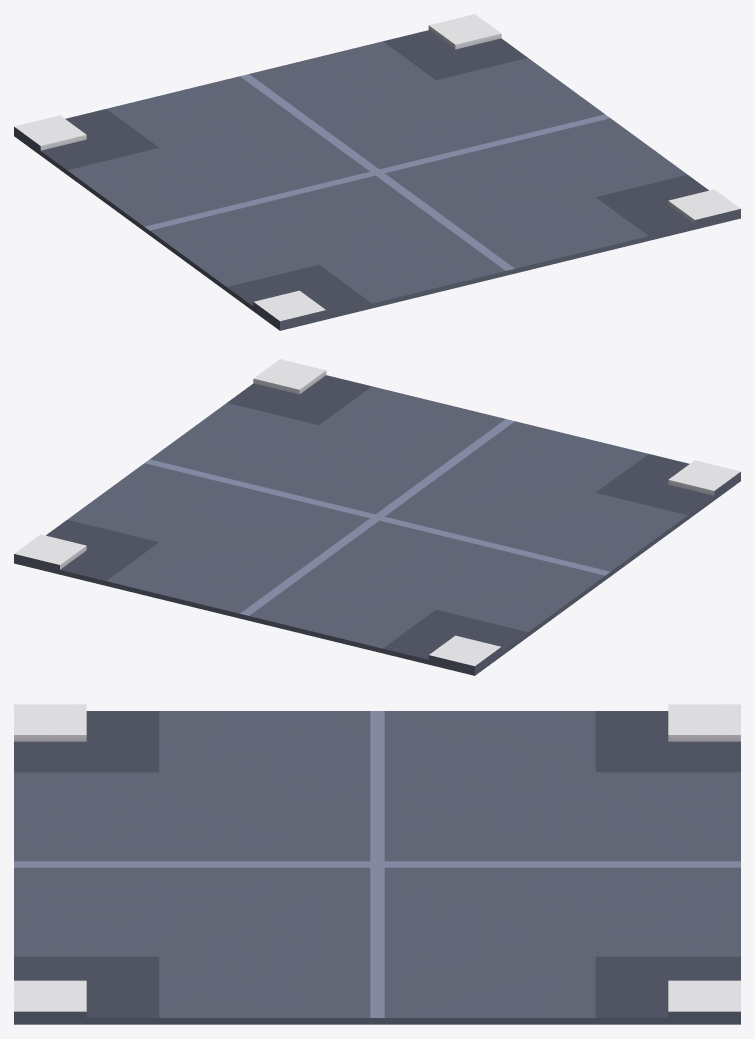
The model's file is road-crossroad-line.draco.glb.
3 renders of one model, top to bottom at view 1: azimuth 30°, elevation 25°; view 2: azimuth 150°, elevation 25°; view 3: azimuth 270°, elevation 25°, orthographic. The views are drawn at different scales.
Parts seen in each view (by area): view 1: road-crossroad-line; view 2: road-crossroad-line; view 3: road-crossroad-line.
Boxes of the visible parts, bbox=[...] form: road-crossroad-line: bbox=[14, 14, 740, 330]; road-crossroad-line: bbox=[14, 359, 740, 675]; road-crossroad-line: bbox=[14, 704, 740, 1024].
Bounding box in the file's own units: 1 × 0.02 × 1.
1 material, 1 textured.
